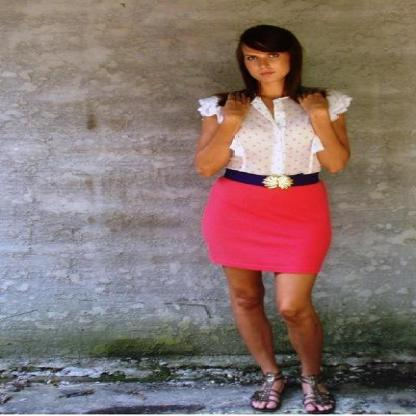shirt: (198, 90, 352, 188)
shoe: (247, 383, 336, 415)
skirt: (201, 180, 330, 273)
